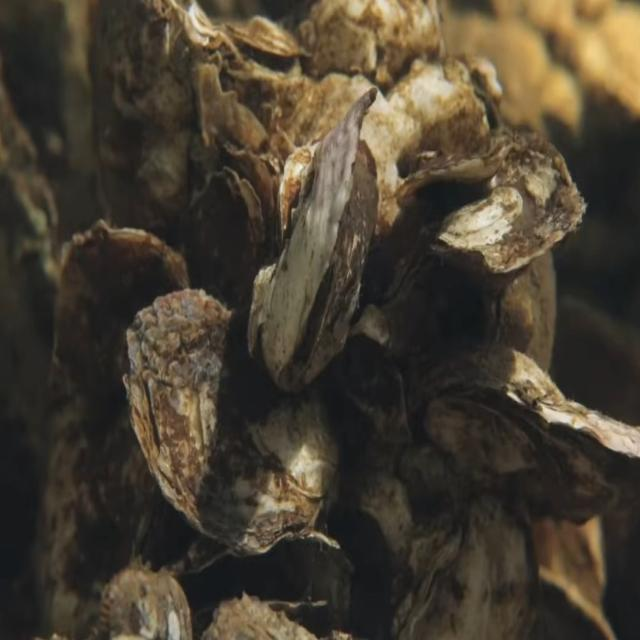Oyster-Closed: (40, 221, 191, 640), (379, 131, 586, 338), (406, 345, 640, 527), (245, 87, 379, 395), (388, 490, 540, 640)
Oyster-Indeterminate: (121, 287, 342, 557), (90, 1, 222, 250), (184, 168, 264, 310)
Oyster-Open: (170, 530, 341, 610)
